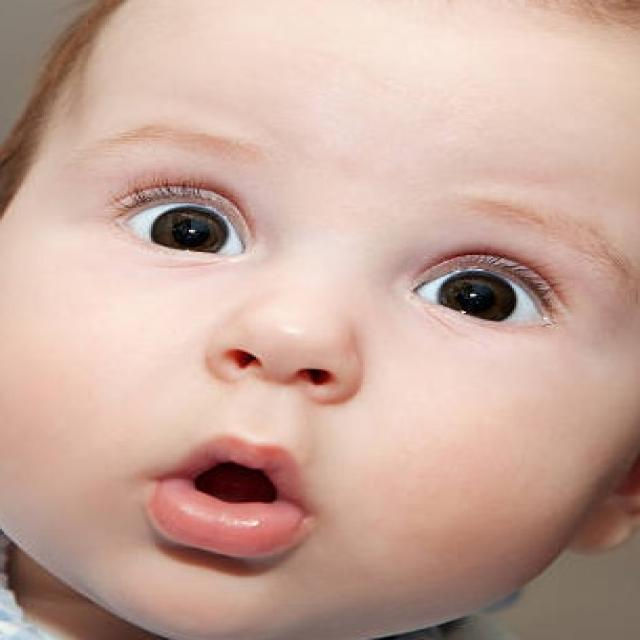Anxiety: (7, 0, 638, 638)
